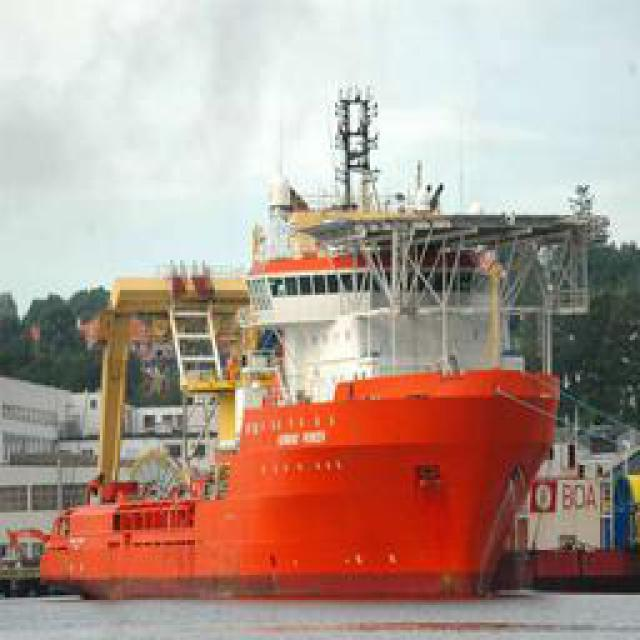Ship: (44, 164, 567, 607)
